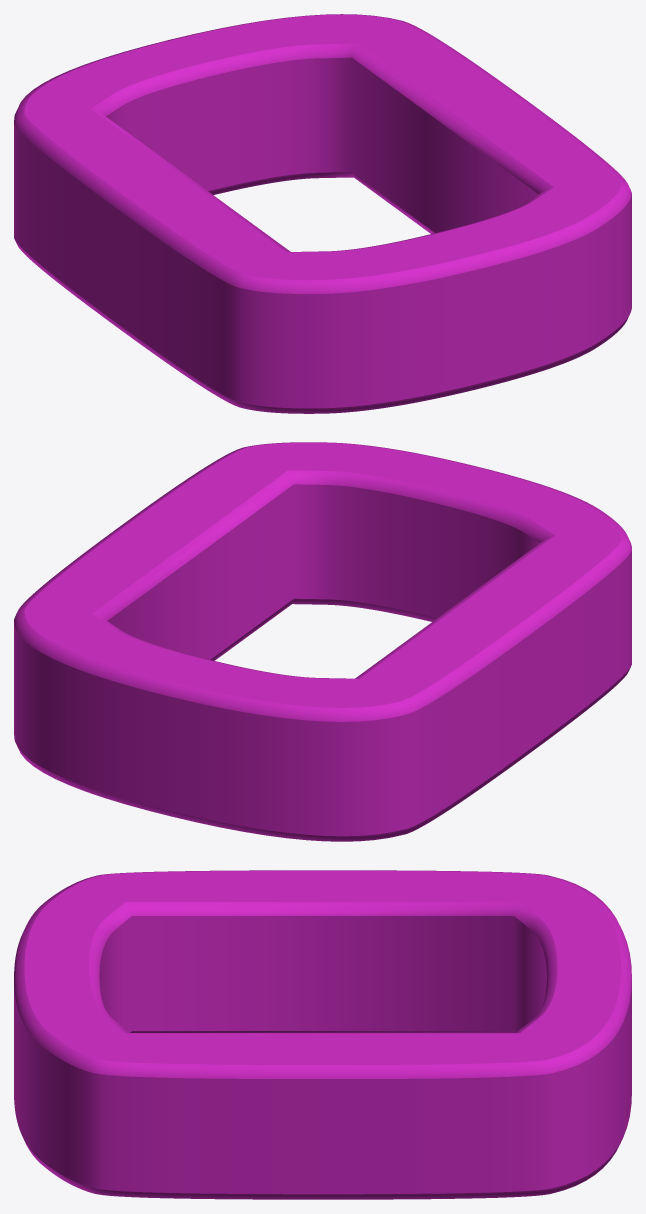
The model's file is Letter_o_CoolFont.fbx.
3 views of the same model, one above another, from view 1: azimuth 30°, elevation 25°; view 2: azimuth 150°, elevation 25°; view 3: azimuth 270°, elevation 25° (orthographic).
Parts seen in each view (by area): view 1: Letter_o; view 2: Letter_o; view 3: Letter_o.
Part boxes in pixels (x1=…): Letter_o: x1=14, y1=14, x2=631, y2=413; Letter_o: x1=14, y1=442, x2=631, y2=841; Letter_o: x1=14, y1=870, x2=631, y2=1199.
Bounding box in the file's own units: 0.4548 × 0.14 × 0.584.
